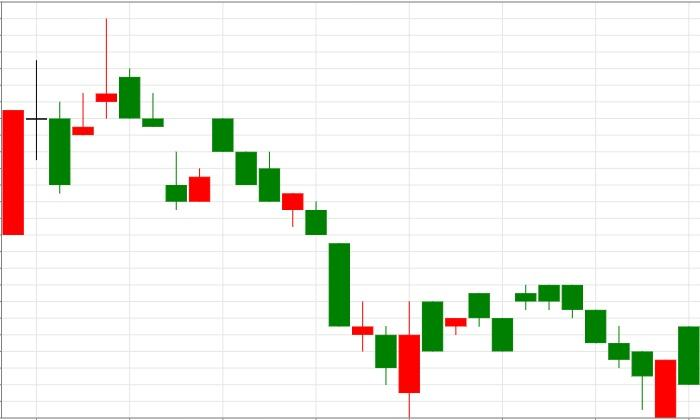bullish_engulfing_rise: (212, 118, 420, 420)
